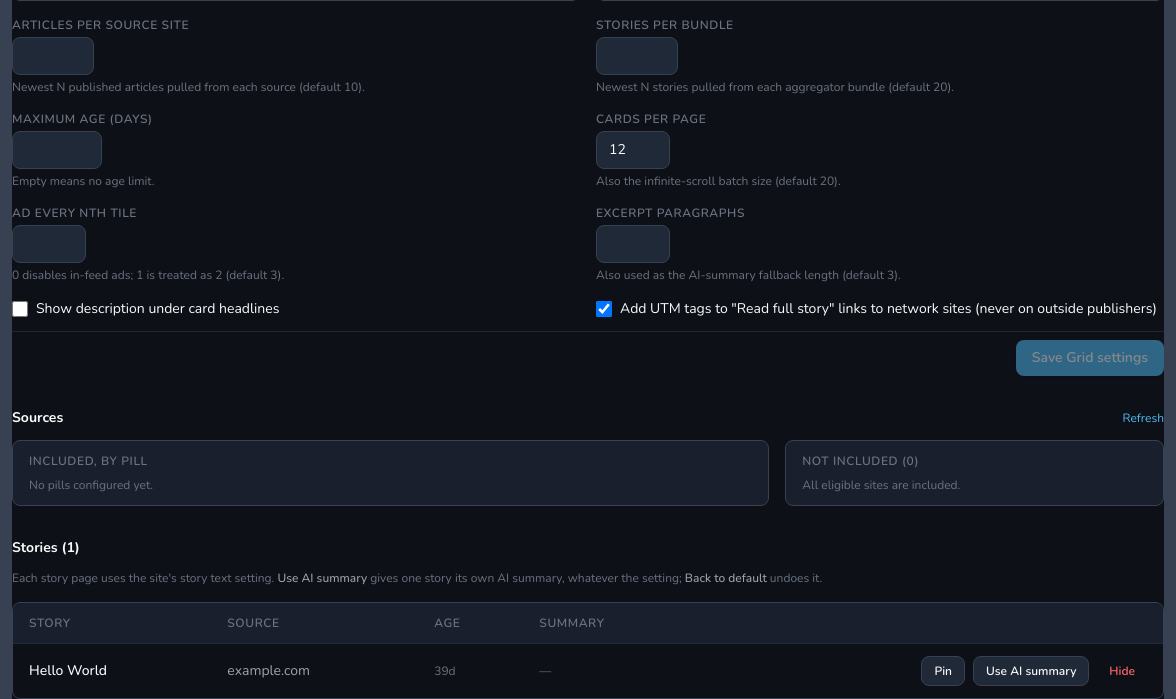
Test: GridSiteTab — pinning does not commit unsaved Feed settings › shows the story as pinned right after a successful Pin, before the site re-syncs
This screenshot has width=1176, height=699.
(page scrolled)
Click the button with aria-label "Pin Hello World" at (943,671), box [922,656,965,686]
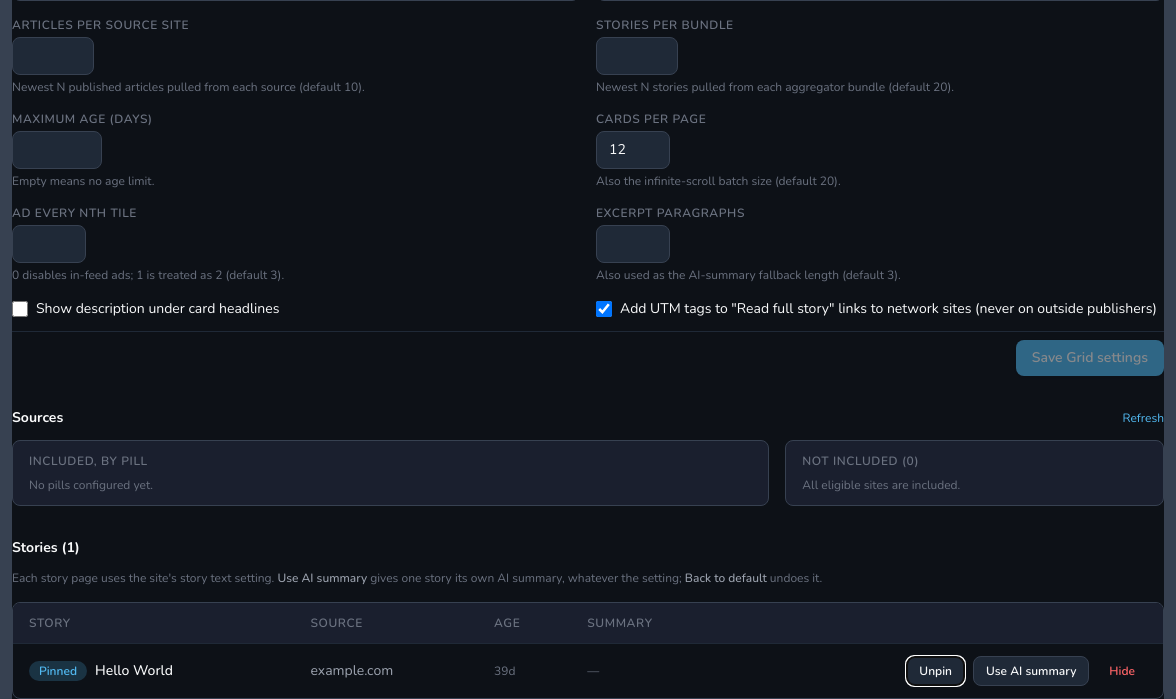
Expected: the button with aria-label "Unpin Hello World" is shown, [906,656,965,686]
Expected: the text "Pinned" is shown, [29,661,87,681]
